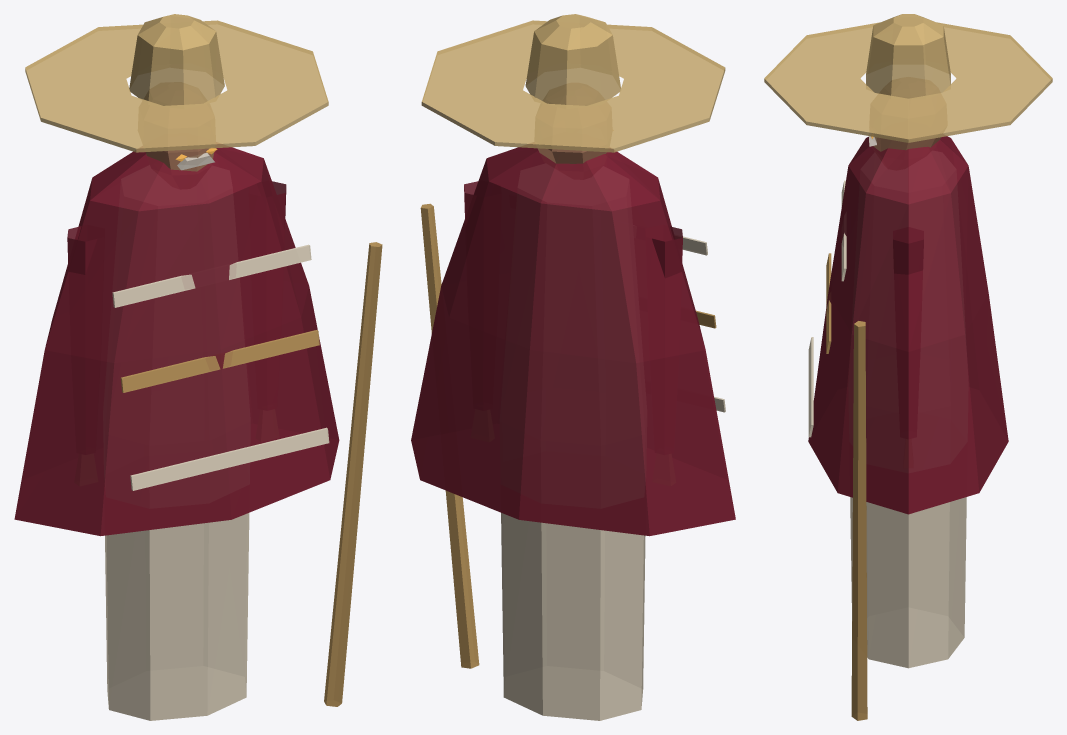
Rendered from anima_anciano.glb.
3 views of the same model, side by side, from view 1: azimuth 30°, elevation 25°; view 2: azimuth 150°, elevation 25°; view 3: azimuth 270°, elevation 25° (orthographic). The views are drawn at different scales.
Visible parts, largest first — view 1: sarape_vino, ropa_interior, object 3, franja_sarape (×3), baston_facetado, object 4, object 9, object 1; view 2: sarape_vino, ropa_interior, object 3, object 4, baston_facetado, object 9, object 1; view 3: sarape_vino, object 3, ropa_interior, object 4, baston_facetado, franja_sarape (×2), object 7, object 1.
Part boxes in pixels (<box>): sarape_vino: <box>14,147,339,536</box>; ropa_interior: <box>105,513,249,720</box>; object 3: <box>25,20,328,152</box>; franja_sarape (×3): <box>112,244,329,490</box>; baston_facetado: <box>324,242,382,706</box>; object 4: <box>129,14,224,105</box>; object 9: <box>67,226,97,274</box>; object 1: <box>145,148,213,171</box>; sarape_vino: <box>411,147,735,536</box>; ropa_interior: <box>501,513,645,720</box>; object 3: <box>421,20,725,152</box>; object 4: <box>525,14,620,105</box>; baston_facetado: <box>420,203,479,668</box>; object 9: <box>652,226,682,278</box>; object 1: <box>537,148,606,163</box>; sarape_vino: <box>808,136,1008,514</box>; object 3: <box>764,22,1052,142</box>; ropa_interior: <box>850,497,966,668</box>; object 4: <box>866,14,950,98</box>; baston_facetado: <box>851,321,867,720</box>; franja_sarape (×2): <box>808,253,831,437</box>; object 7: <box>893,239,923,274</box>; object 1: <box>873,137,940,151</box>.
Size of the model in its own units: 0.902 by 1.76 by 0.72.
